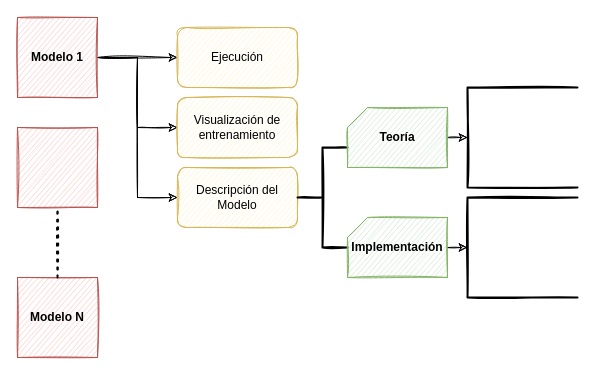
The diagram is 596 pixels wide and 375 high, and some of its shapes have lost their labels. Here are the shapes that lost their labels. From the top down, the centre of each, then its label:
(522,137): Funcionamiento del modelo
(57,167): Modelo 2
(522,247): Descripción del modelo y su funcionamiento a nivel de código.
